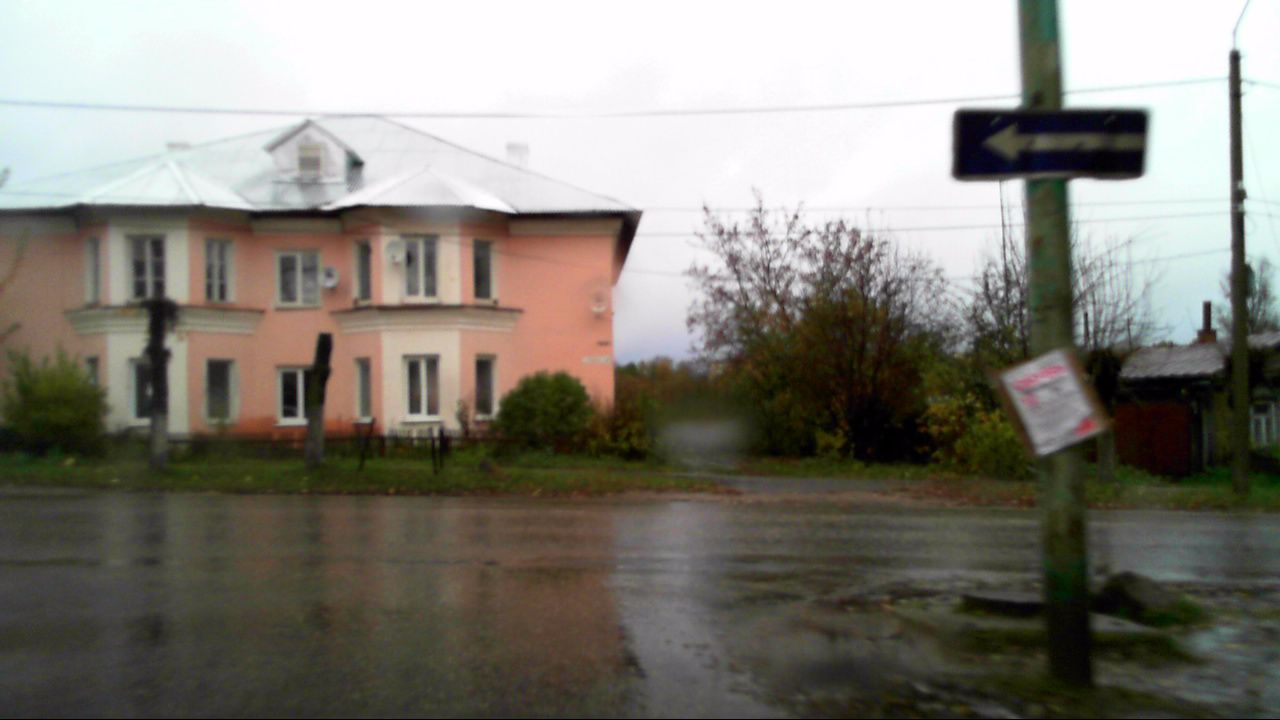One-Way Traffic: (952, 108, 1150, 180)
